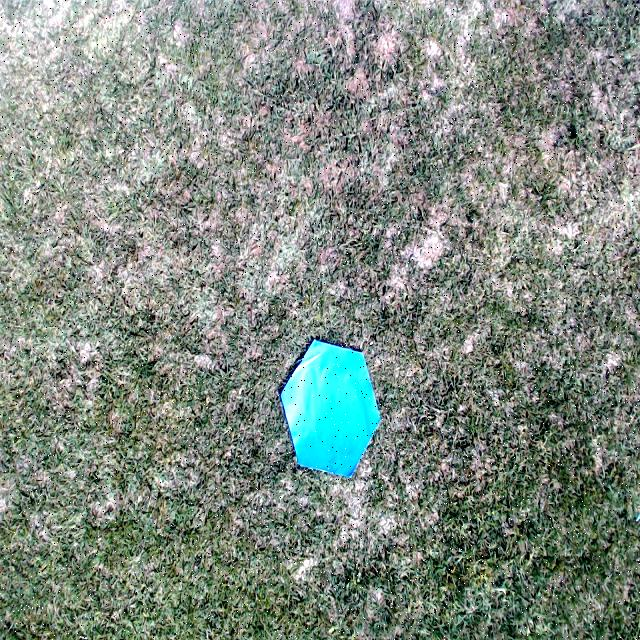blue_hexagon: (281, 342, 380, 478)
